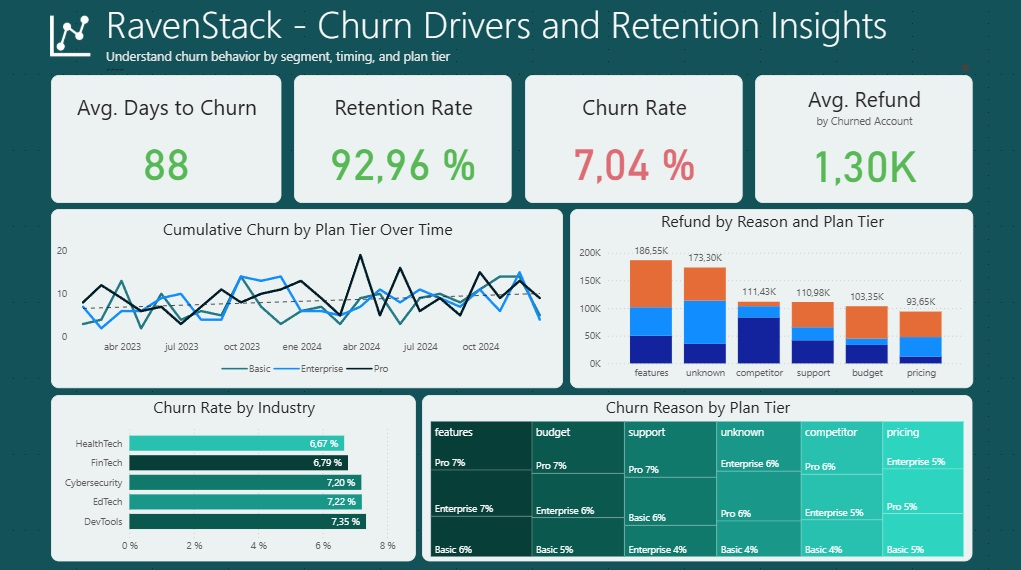

The page's visual inventory and layout, read from the dashboard file:
{"tool":"powerbi","page":{"name":"Churn & Retention","canvas":[1280,720],"ordinal":2},"visuals":[{"type":"image","box":[48,8,80,80],"z":0},{"type":"textbox","title":"RavenStack - Churn Drivers and Retention Insights","box":[128,0,1088,96],"z":1000},{"type":"card","title":"Avg. Days to Churn","fields":{"Values":["Measures Table.Avg Days to Churn"]},"box":[64,96,288,160],"z":2000},{"type":"card","title":"Retention Rate","fields":{"Values":["Measures Table.Retention Rate"]},"box":[368,96,272,160],"z":3000},{"type":"card","title":"Churn Rate","fields":{"Values":["Measures Table.Churn Rate"]},"box":[656,96,272,160],"z":4000},{"type":"card","title":"Avg. Refund ","fields":{"Values":["Measures Table.Avg Refund"]},"box":[944,96,272,160],"z":5000},{"type":"lineChart","title":"Cumulative Churn by Plan Tier Over Time","fields":{"Series":["vw_account_summary.plan_tier"],"Category":["DateTable.EndOfMonth"],"Y":["CountNonNull(vw_churn_summary.account_id)"]},"box":[64,264,640,224],"z":6000},{"type":"treemap","title":"Churn Reason by Plan Tier","fields":{"Group":["vw_churn_summary.reason_code"],"Details":["vw_account_summary.plan_tier"],"Values":["CountNonNull(vw_churn_summary.account_id)"]},"box":[528,496,688,208],"z":7000},{"type":"clusteredBarChart","title":"Churn Rate by Industry","fields":{"Y":["Measures Table.Churn Rate"],"Category":["vw_account_summary.industry"]},"box":[64,496,456,208],"z":8000},{"type":"columnChart","title":"Refund by Reason and Plan Tier","fields":{"Category":["vw_churn_summary.reason_code"],"Y":["Sum(vw_churn_summary.refund_amount_usd)"],"Series":["vw_account_summary.plan_tier"]},"box":[712,264,504,224],"z":9000}]}

Visuals, with their boxes in screenshot pixels (x1, y1, x2, y2), scaled from the page's 1280x720 canvas onto the 1021x570 screenshot:
image: {"left": 38, "top": 6, "right": 102, "bottom": 70}
"RavenStack - Churn Drivers and Retention Insights" textbox: {"left": 102, "top": 0, "right": 970, "bottom": 76}
"Avg. Days to Churn" card: {"left": 51, "top": 76, "right": 281, "bottom": 203}
"Retention Rate" card: {"left": 294, "top": 76, "right": 510, "bottom": 203}
"Churn Rate" card: {"left": 523, "top": 76, "right": 740, "bottom": 203}
"Avg. Refund " card: {"left": 753, "top": 76, "right": 970, "bottom": 203}
"Cumulative Churn by Plan Tier Over Time" lineChart: {"left": 51, "top": 209, "right": 562, "bottom": 386}
"Churn Reason by Plan Tier" treemap: {"left": 421, "top": 393, "right": 970, "bottom": 557}
"Churn Rate by Industry" clusteredBarChart: {"left": 51, "top": 393, "right": 415, "bottom": 557}
"Refund by Reason and Plan Tier" columnChart: {"left": 568, "top": 209, "right": 970, "bottom": 386}
